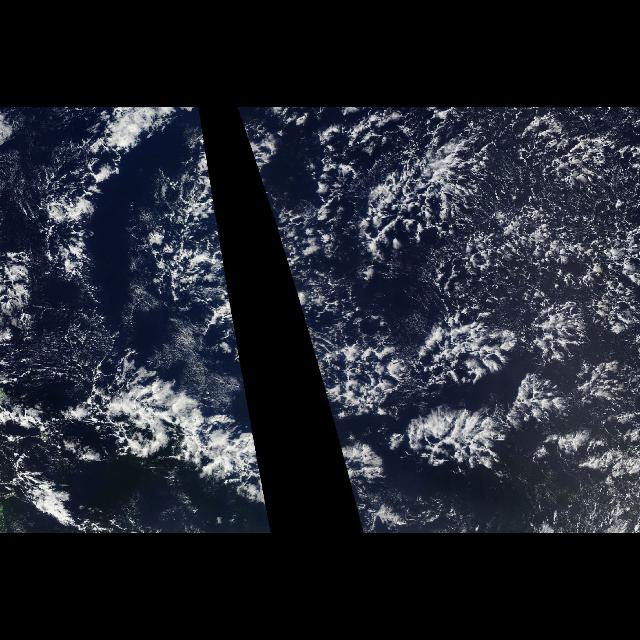Fish: (66, 364, 264, 496)
Flower: (301, 293, 635, 483)
Gravel: (372, 111, 640, 317)
